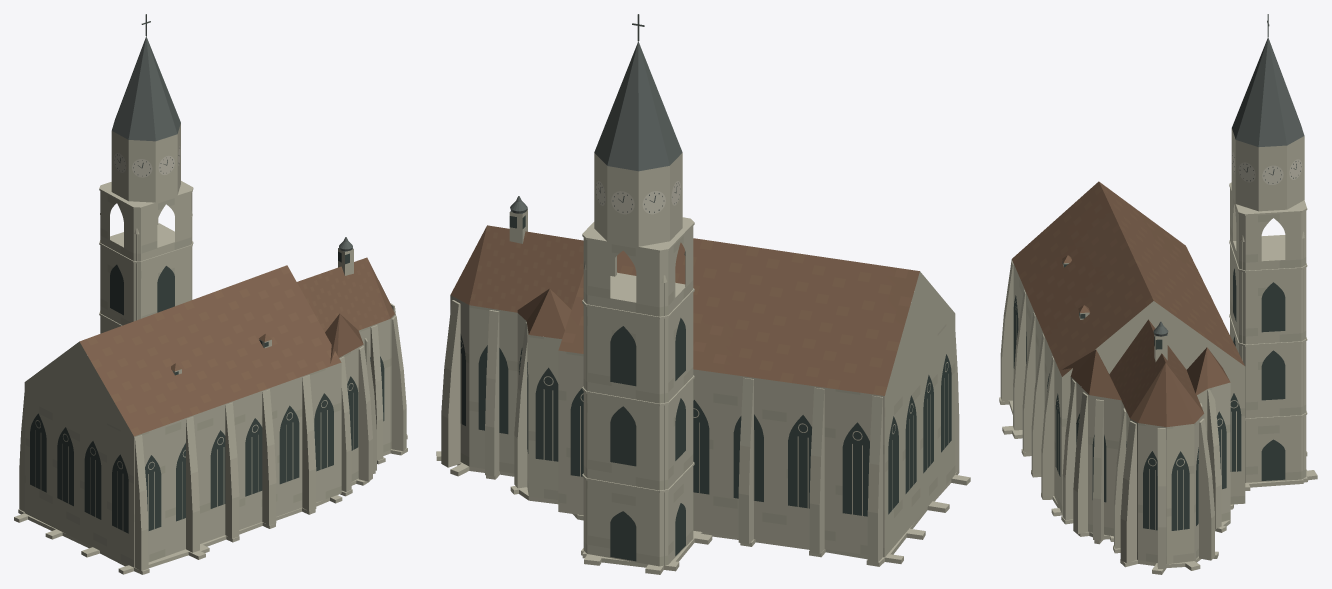
The model's file is st-michaels-church-cluj-near.glb.
The picture shows the model from 3 angles, left to right: view 1: azimuth 30°, elevation 25°; view 2: azimuth 150°, elevation 25°; view 3: azimuth 270°, elevation 25°; orthographic projection. The views are drawn at different scales.
Parts seen in each view (by area): view 1: st-michaels-church-cluj-0-stone, st-michaels-church-cluj-0-roof, st-michaels-church-cluj-0-glass, st-michaels-church-cluj-0-roof2, st-michaels-church-cluj-0-slate, st-michaels-church-cluj-0-stone2, st-michaels-church-cluj-0-clock; view 2: st-michaels-church-cluj-0-stone, st-michaels-church-cluj-0-roof, st-michaels-church-cluj-0-glass, st-michaels-church-cluj-0-stone2, st-michaels-church-cluj-0-roof2, st-michaels-church-cluj-0-slate, st-michaels-church-cluj-0-clock; view 3: st-michaels-church-cluj-0-stone, st-michaels-church-cluj-0-roof, st-michaels-church-cluj-0-glass, st-michaels-church-cluj-0-roof2, st-michaels-church-cluj-0-slate, st-michaels-church-cluj-0-stone2, st-michaels-church-cluj-0-clock.
Boxes of the visible parts, x1,y1,x2,y2 form: st-michaels-church-cluj-0-stone: (14, 123, 407, 574); st-michaels-church-cluj-0-roof: (79, 258, 394, 433); st-michaels-church-cluj-0-glass: (30, 251, 384, 533); st-michaels-church-cluj-0-roof2: (87, 257, 388, 436); st-michaels-church-cluj-0-slate: (112, 36, 353, 251); st-michaels-church-cluj-0-stone2: (24, 195, 391, 567); st-michaels-church-cluj-0-clock: (113, 146, 180, 177); st-michaels-church-cluj-0-stone: (436, 153, 970, 574); st-michaels-church-cluj-0-roof: (450, 226, 919, 394); st-michaels-church-cluj-0-glass: (460, 215, 951, 561); st-michaels-church-cluj-0-stone2: (450, 236, 955, 566); st-michaels-church-cluj-0-roof2: (470, 225, 912, 395); st-michaels-church-cluj-0-slate: (510, 41, 682, 213); st-michaels-church-cluj-0-clock: (596, 181, 680, 214); st-michaels-church-cluj-0-stone: (999, 128, 1317, 574); st-michaels-church-cluj-0-roof: (1013, 181, 1244, 427); st-michaels-church-cluj-0-glass: (1013, 261, 1285, 530); st-michaels-church-cluj-0-roof2: (1012, 186, 1240, 414); st-michaels-church-cluj-0-slate: (1153, 37, 1304, 336); st-michaels-church-cluj-0-stone2: (1011, 199, 1306, 563); st-michaels-church-cluj-0-clock: (1232, 152, 1302, 184).
Size of the model in its own units: 73.46 by 80 by 50.79.
